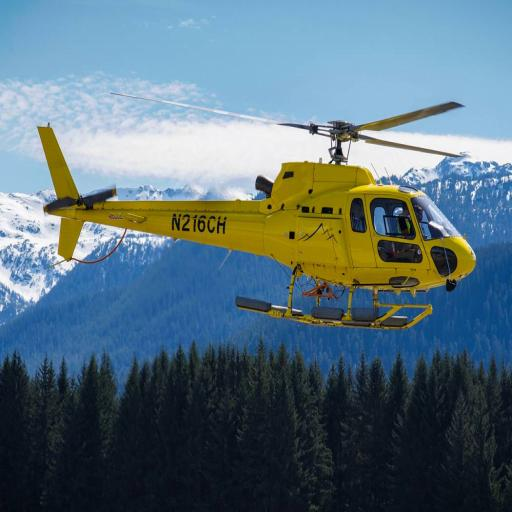helicopter: (34, 69, 485, 349)
